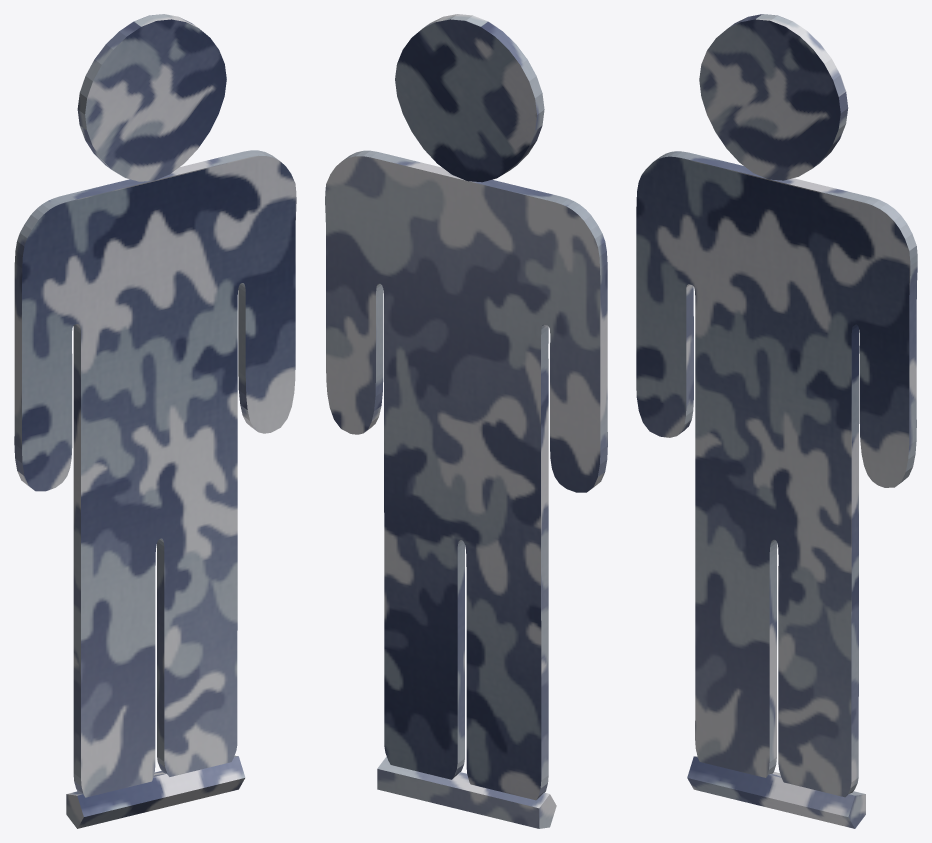
The model's file is camo1.obj.
The picture shows the model from 3 angles, left to right: view 1: azimuth 30°, elevation 25°; view 2: azimuth 150°, elevation 25°; view 3: azimuth 330°, elevation 25°; orthographic projection.
Parts seen in each view (by area): view 1: Cylinder01_Cylinder01.003; view 2: Cylinder01_Cylinder01.003; view 3: Cylinder01_Cylinder01.003.
Part boxes in pixels (bbox=[...]): Cylinder01_Cylinder01.003: bbox=[14, 14, 296, 828]; Cylinder01_Cylinder01.003: bbox=[325, 14, 607, 828]; Cylinder01_Cylinder01.003: bbox=[636, 14, 917, 828].
Bounding box in the file's own units: 1.35 × 3.72 × 0.1492.
1 material, 1 textured.
